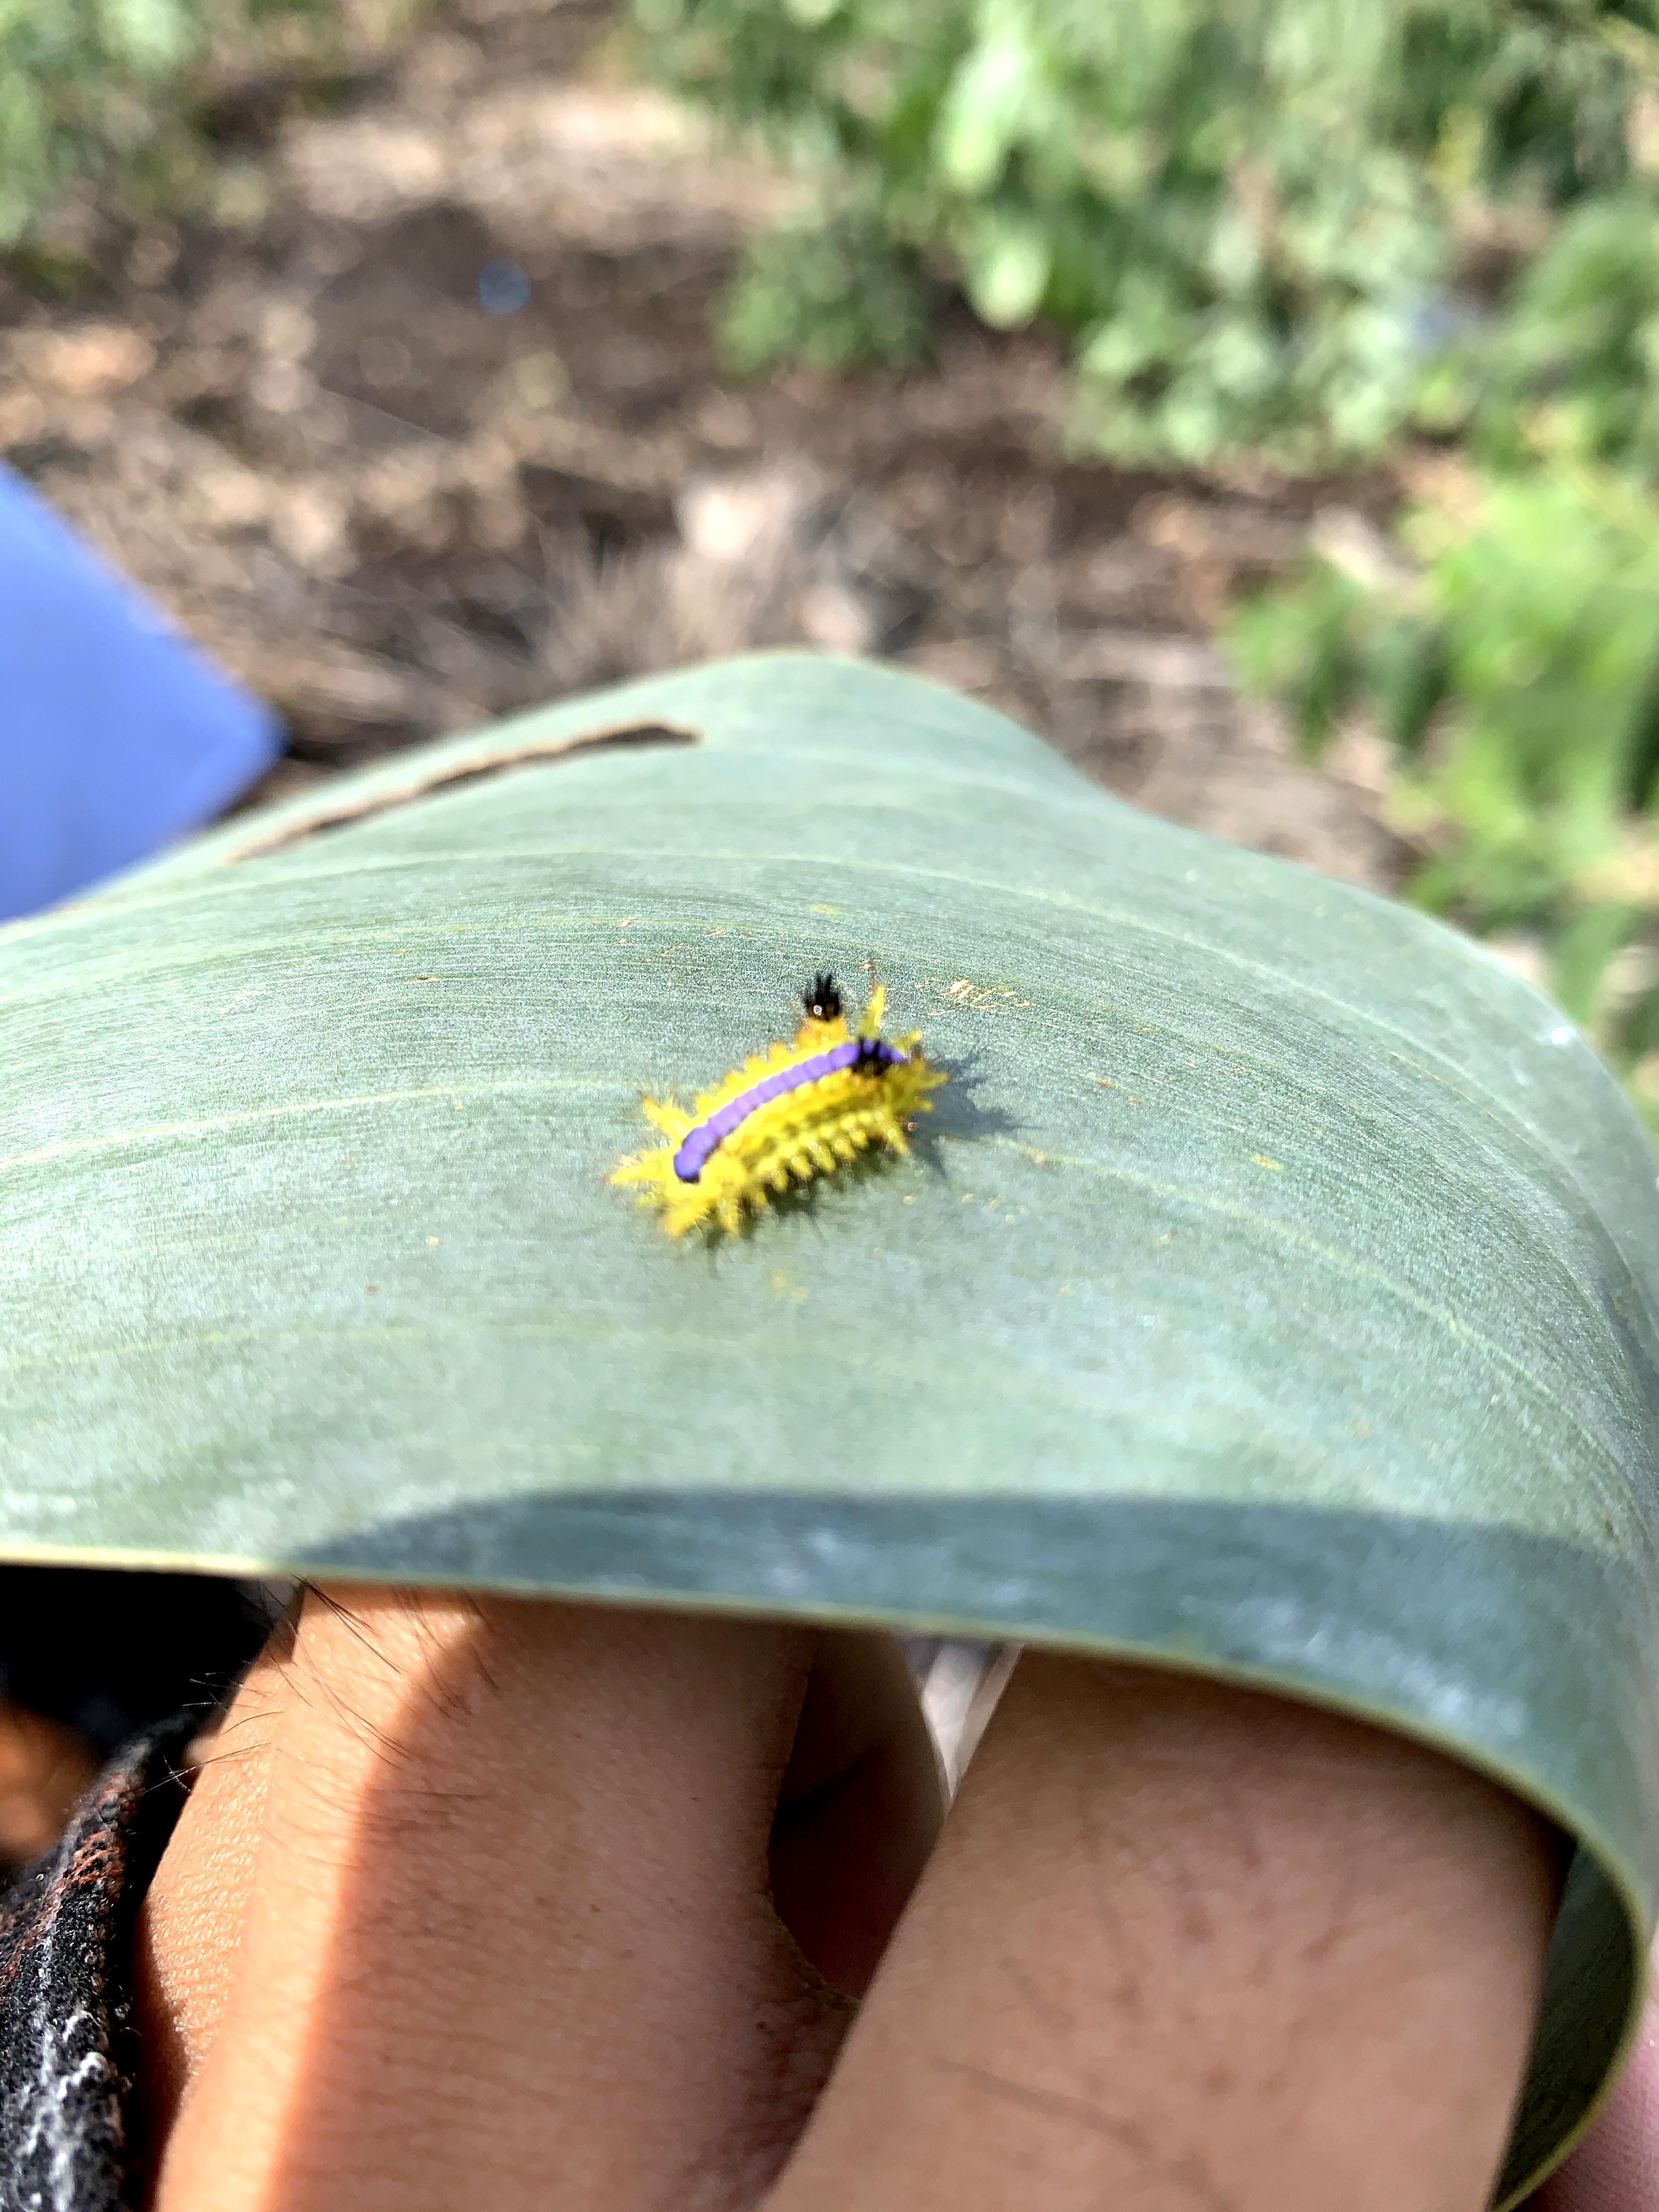Caterpillar: (596, 967, 945, 1291)
